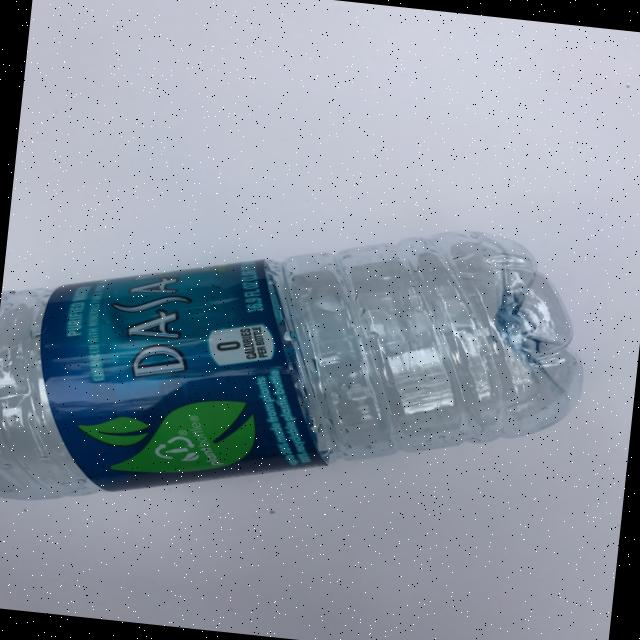plastic: (0, 181, 597, 557)
